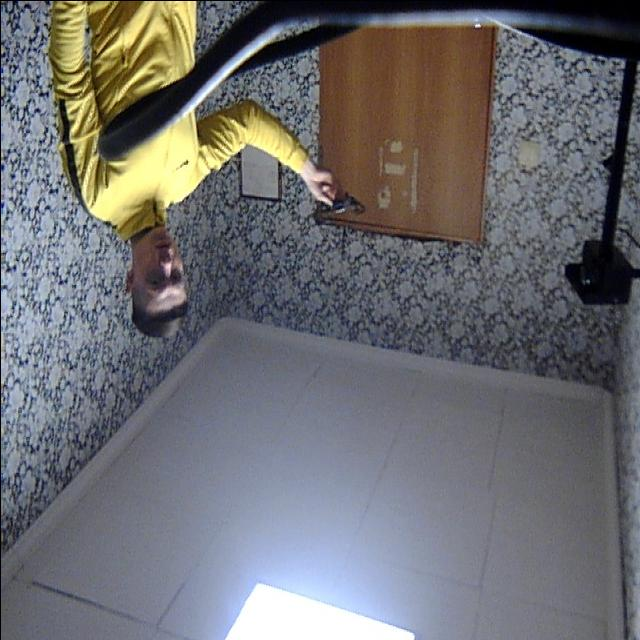drone: (310, 178, 368, 235)
